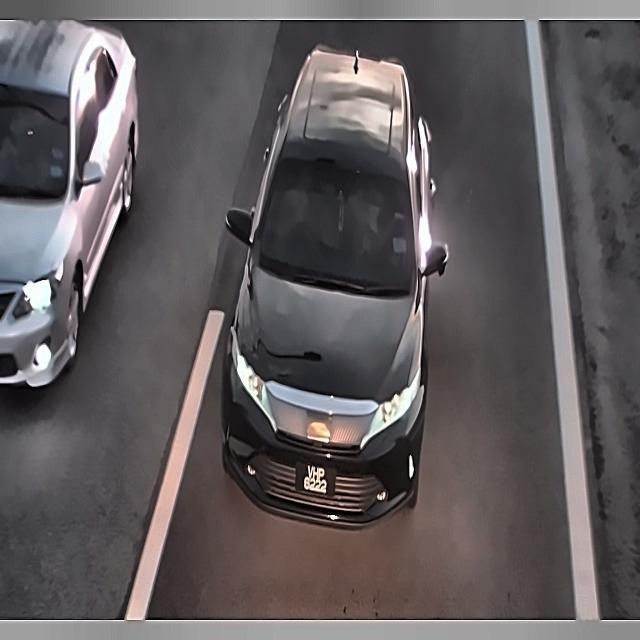car: (292, 457, 338, 506)
